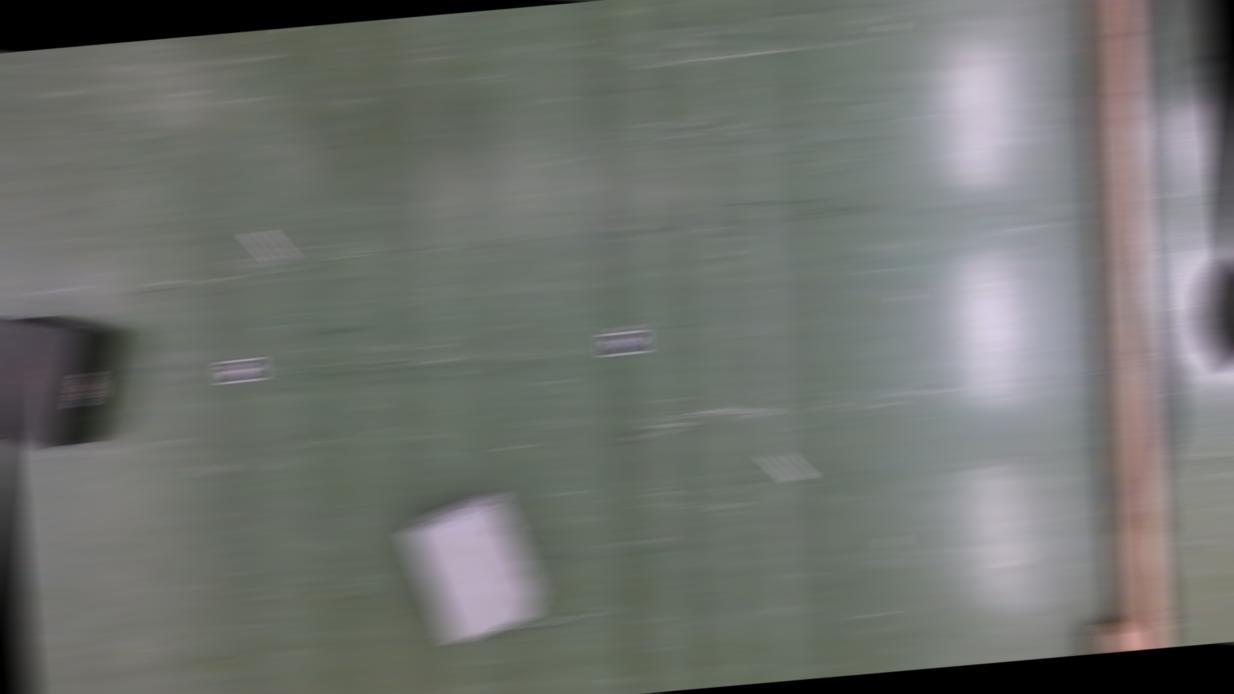probes: (248, 228, 289, 264), (765, 451, 807, 483)
rako: (400, 487, 546, 653), (0, 305, 133, 452)
